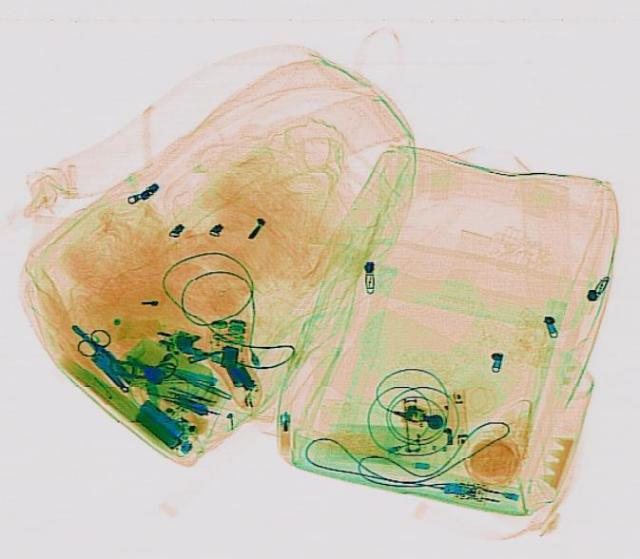Scissors: (68, 323, 146, 389)
